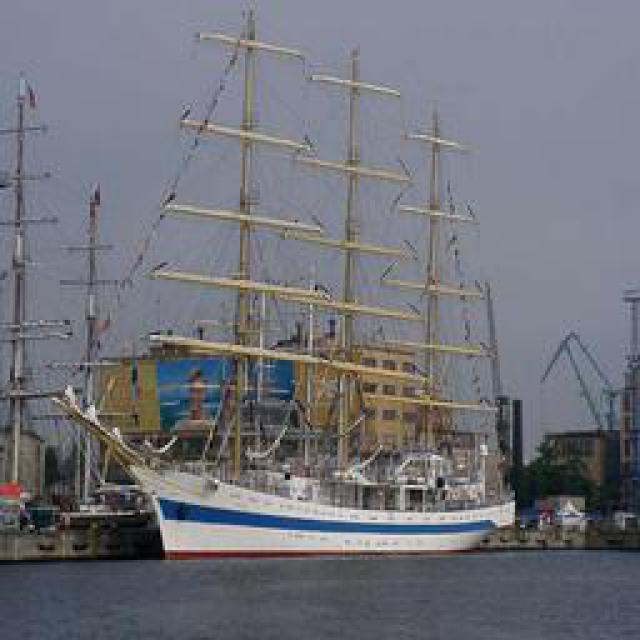Ship: (55, 30, 508, 558)
